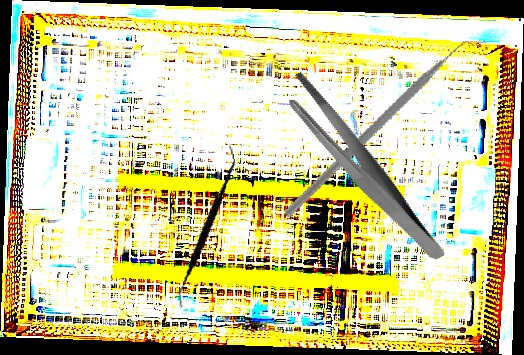Chopper: (283, 3, 488, 254)
Dressing Forceps: (278, 48, 447, 289)
Spatula Surgical: (151, 145, 261, 309)
